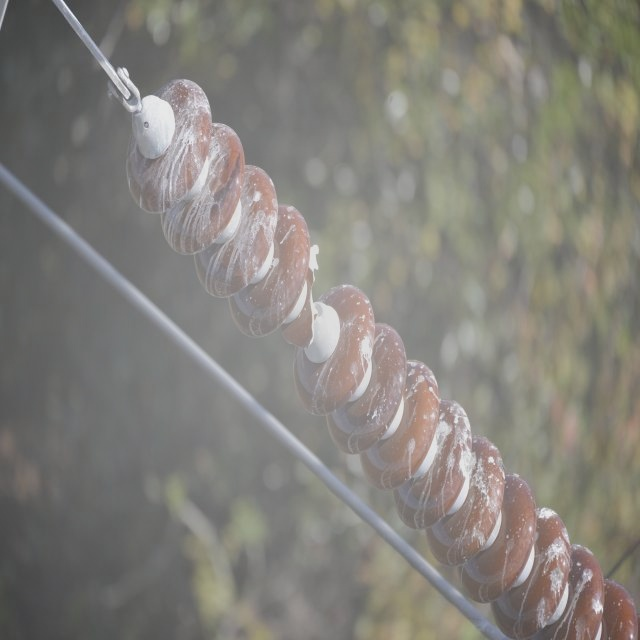broken: (281, 239, 321, 350)
insulator: (124, 78, 636, 640)
